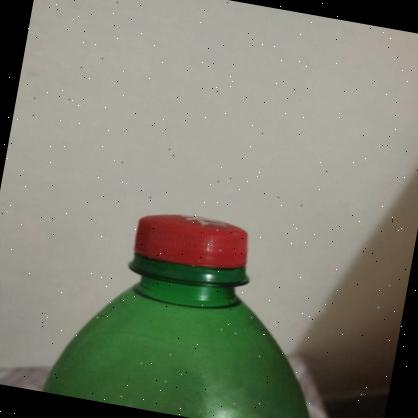cap: (128, 206, 256, 292)
